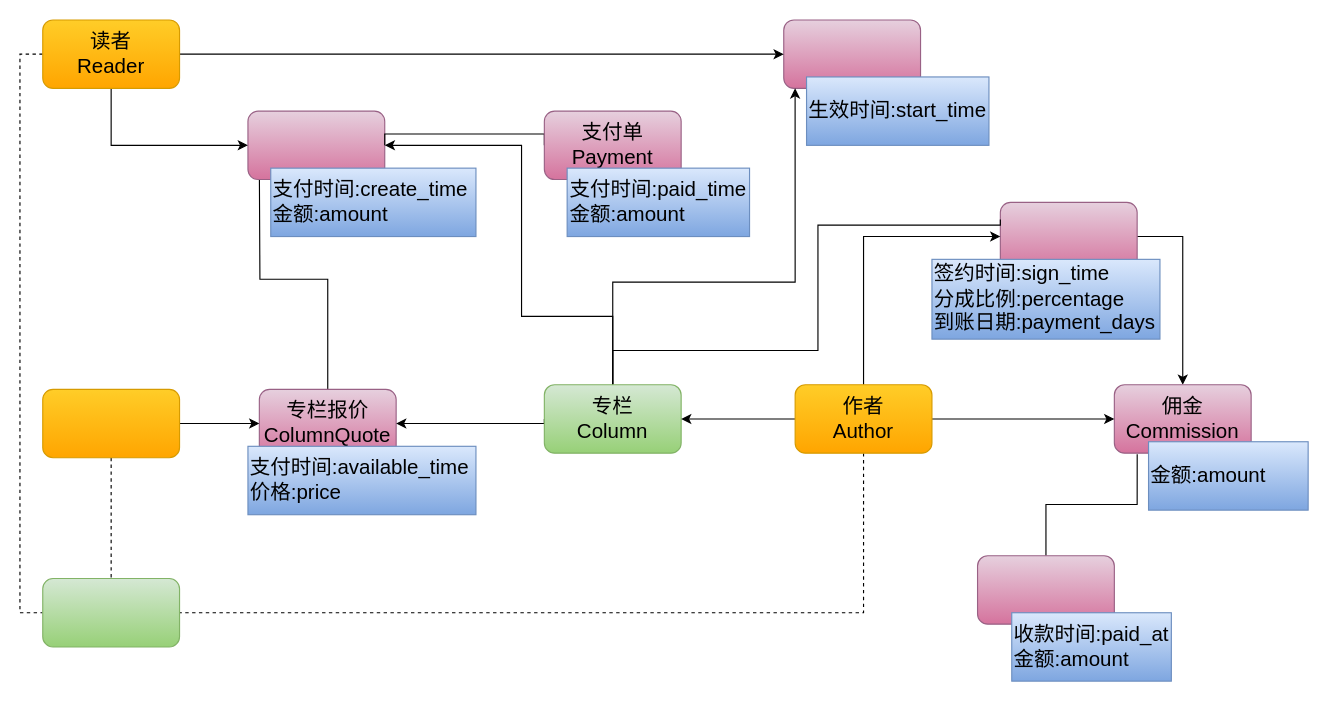
The diagram is 1328 pixels wide and 701 high, and some of its shapes have lost their labels. Each missing label, with the box of its shape:
作者合同 Contract: (999, 201, 1137, 271)
佣金收款单 Receive: (976, 555, 1114, 624)
编辑 Editor: (42, 388, 180, 458)
订单 Order: (247, 110, 385, 180)
订阅 Subscription: (783, 19, 921, 88)
读者 User: (42, 577, 180, 647)
